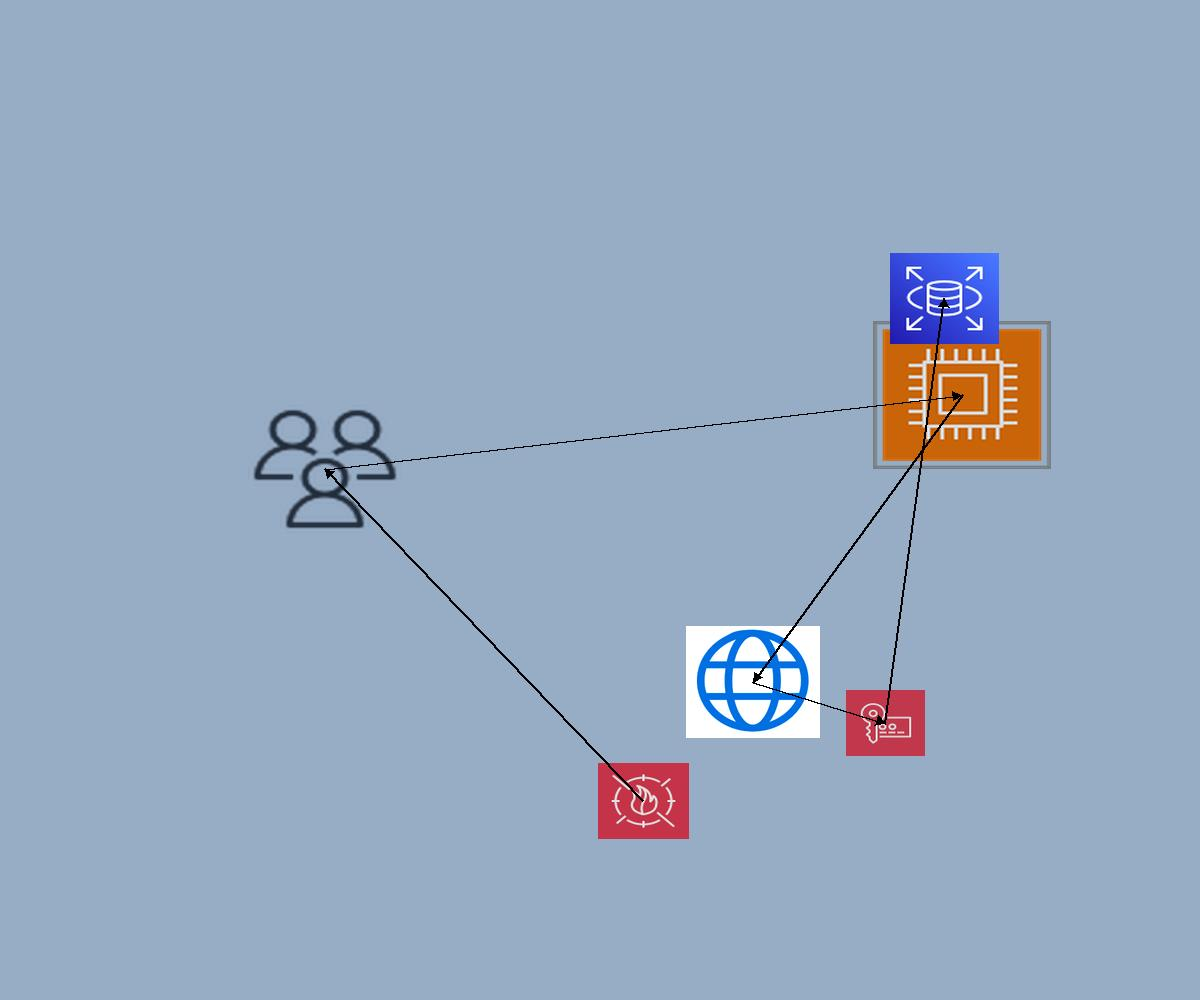AWS-Category_Compute: (873, 321, 1051, 469)
AWS-Key-Management-Service: (846, 690, 925, 756)
AWS-RDS: (890, 253, 999, 344)
AWS-Res_Users: (248, 405, 402, 533)
AWS-WAF: (598, 763, 689, 839)
Azure_http: (686, 626, 820, 738)
